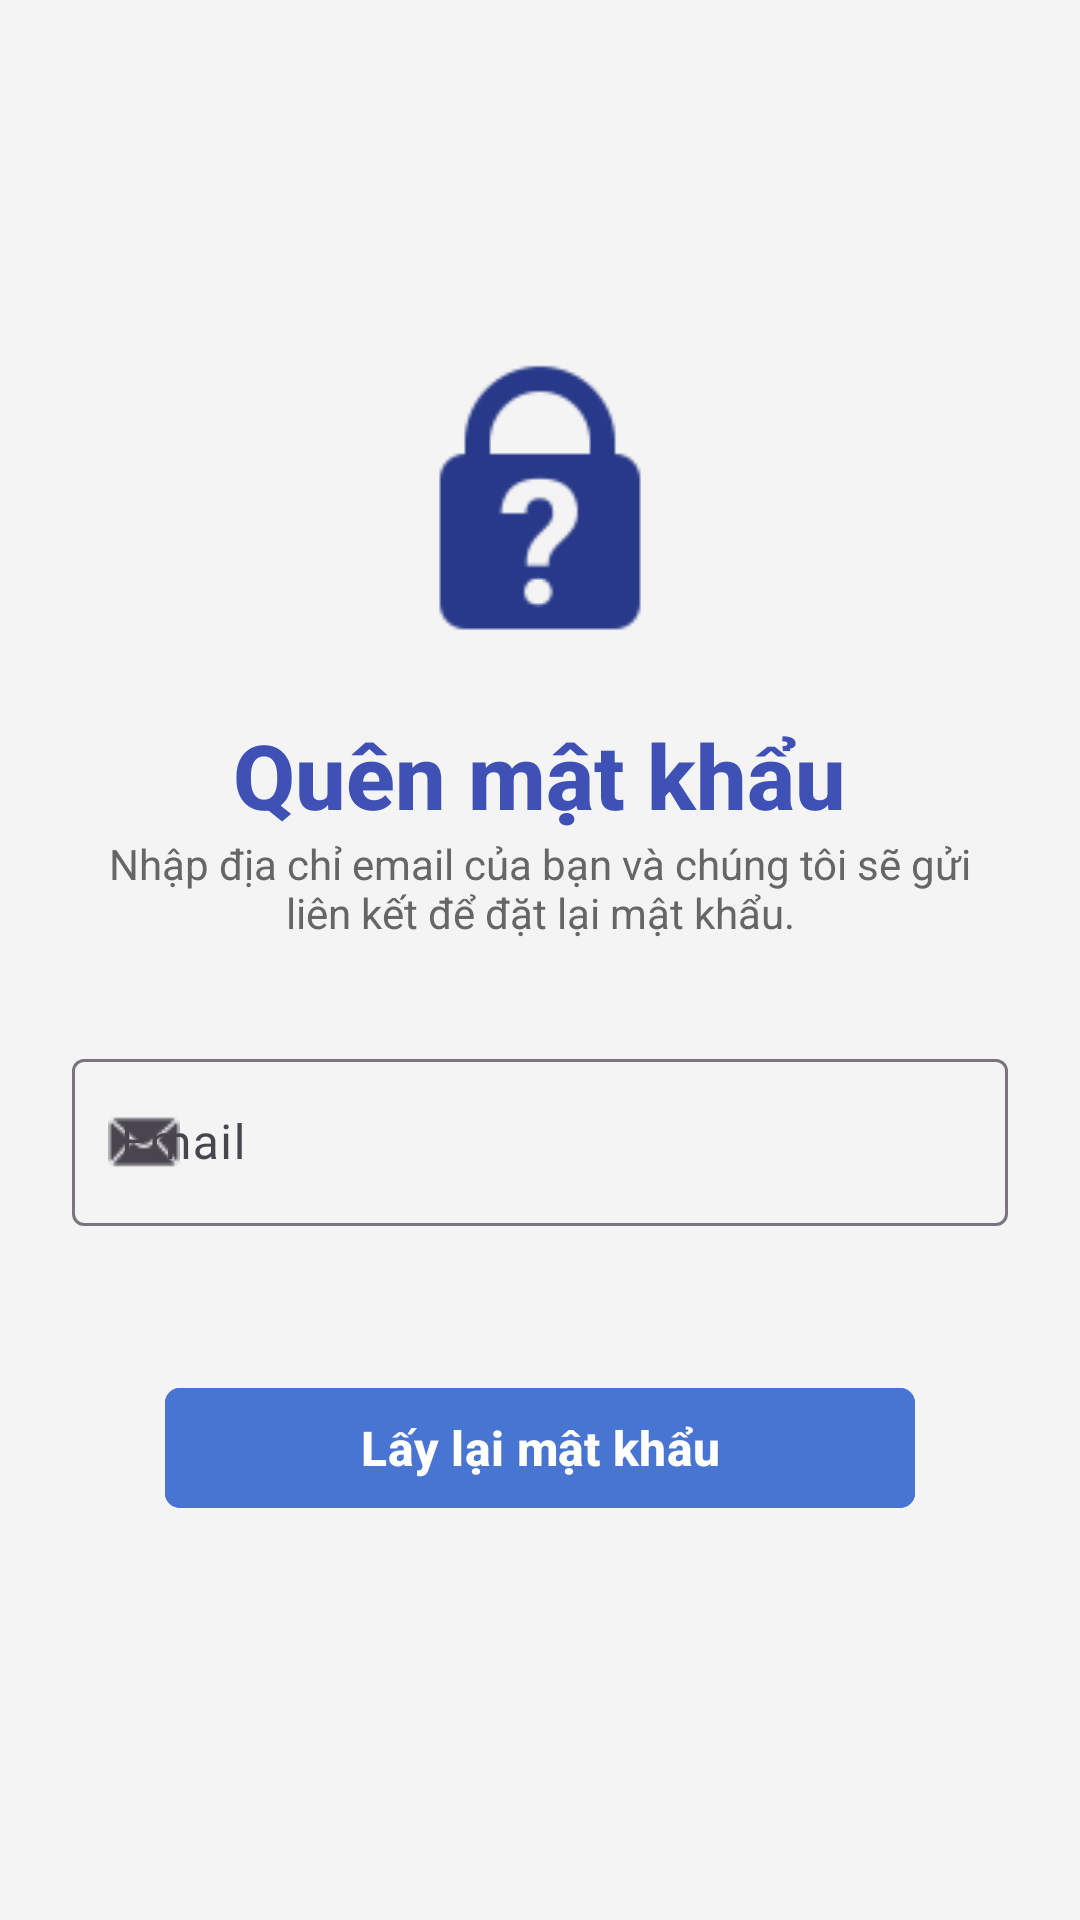

Named icons in this screenshot (1080w x 1920h) and their bounding boxes, (x1, y1, x2, y2):
forgot password: (439, 365, 641, 630)
